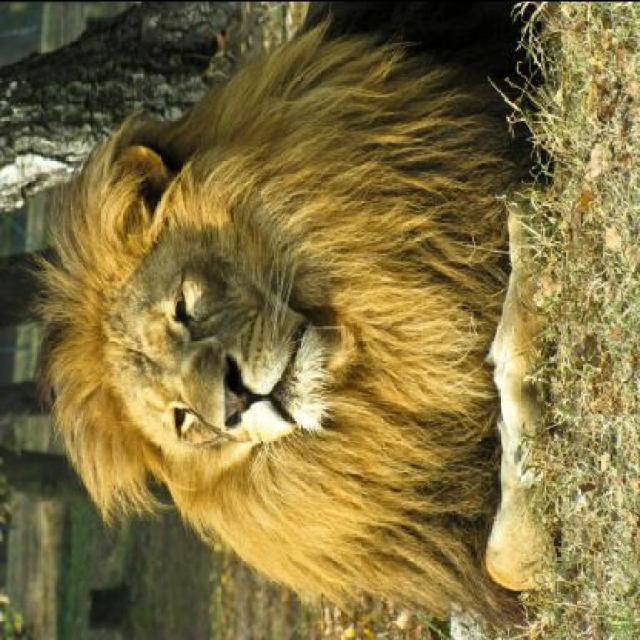Lion: (37, 12, 585, 638)
